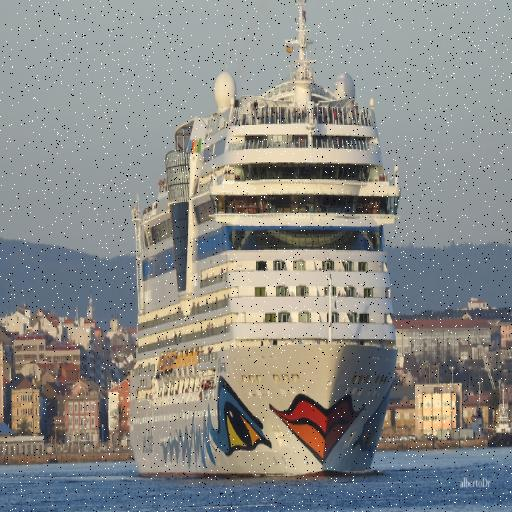cruises: (122, 1, 407, 490)
